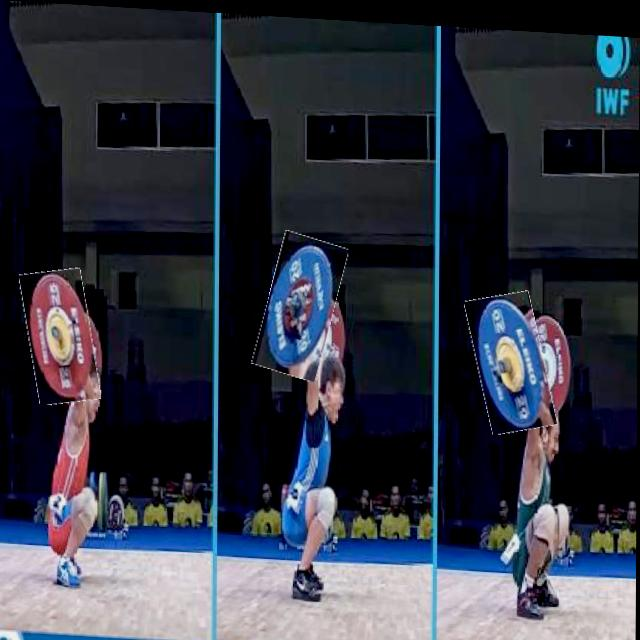barbell: (261, 230, 342, 378), (472, 285, 552, 430), (26, 267, 99, 406)
